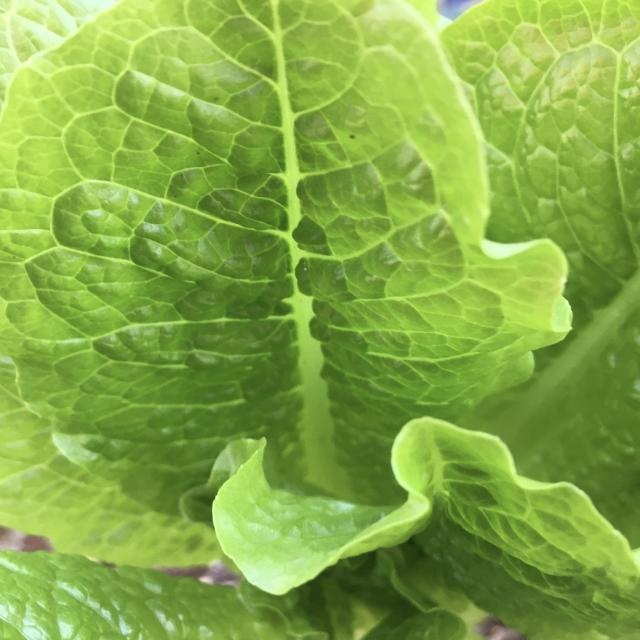Healthy Lettuce: (3, 2, 636, 636), (206, 431, 434, 596)
